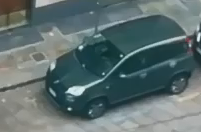Car: (41, 12, 198, 121)
